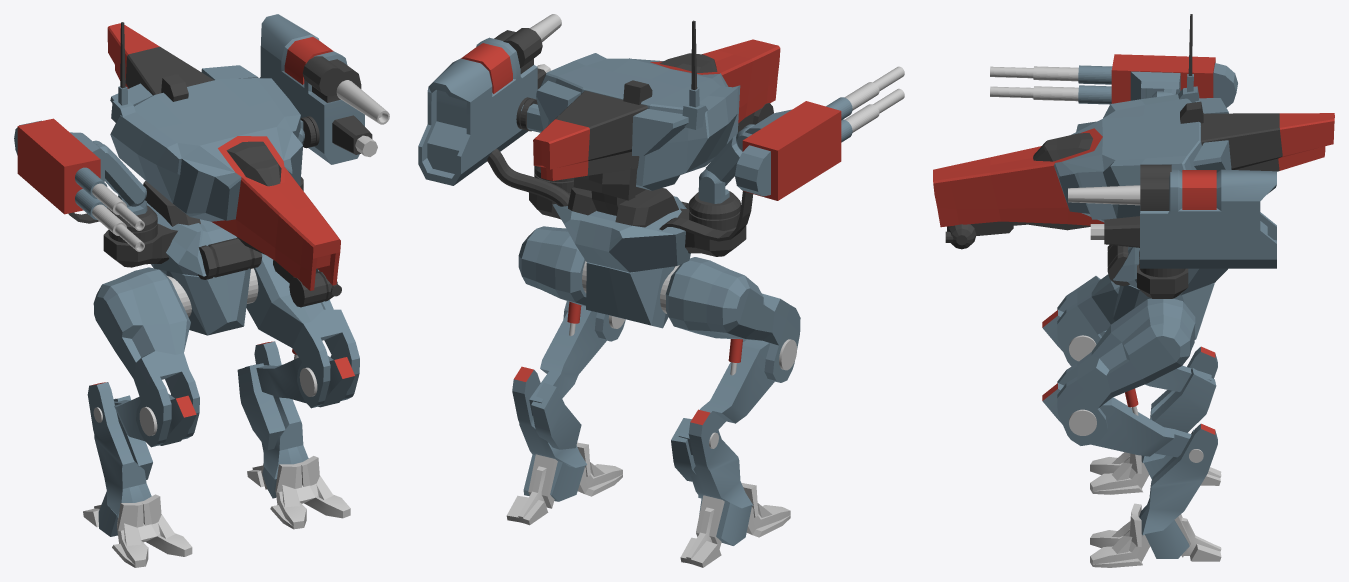
The model's file is SapceY_Blocking_Rig.fbx.
The picture shows the model from 3 angles, left to right: view 1: azimuth 30°, elevation 25°; view 2: azimuth 150°, elevation 25°; view 3: azimuth 270°, elevation 25°; orthographic projection. The views are drawn at different scales.
Visible parts, largest first — view 1: Cube.015, Cylinder, Cube.008, Cube.006, Cylinder.008, Cube.001, Cube.016, Cube.004, Cube.009, Cube.017, Cube.005, Cube.003 (+3 smaller); view 2: Cube.015, Cube.008, Cube.001, Cube.006, Cylinder, Cube.016, Cube.004, Cylinder.008, Cube.009, Cube.002, Cube.003, Cube.011 (+5 smaller); view 3: Cube.015, Cube.008, Cylinder.008, Cube.006, Cube.004, Cylinder, Cube.003, Cube.016, Cube.001, Cube.005, Cube.017, Cube.009 (+2 smaller).
Boxes of the visible parts, x1,y1,x2,y2 form: Cube.015: (107,22,341,307); Cylinder: (93,267,199,447); Cube.008: (260,14,389,164); Cube.006: (14,118,144,251); Cylinder.008: (246,253,359,408); Cube.001: (68,180,303,279); Cube.016: (87,382,152,536); Cube.004: (237,341,308,498); Cube.009: (160,268,250,335); Cube.017: (112,494,192,567); Cube.005: (270,456,350,529); Cube.003: (245,356,354,407); Cube.015: (533,20,780,200); Cube.008: (418,14,561,185); Cube.001: (487,148,753,272); Cube.006: (735,66,904,200); Cylinder: (665,257,800,382); Cube.016: (671,409,753,548); Cube.004: (512,366,586,508); Cylinder.008: (518,226,625,341); Cube.009: (586,262,674,328); Cube.002: (678,340,774,454); Cube.003: (529,305,606,415); Cube.011: (689,124,754,219); Cube.015: (933,14,1334,249); Cube.008: (1068,164,1276,268); Cylinder.008: (1057,298,1195,445); Cube.006: (990,54,1237,107); Cube.004: (1139,423,1217,558); Cylinder: (1057,274,1119,366); Cube.003: (1042,383,1191,457); Cube.016: (1141,346,1217,479); Cube.001: (1107,245,1227,298); Cube.005: (1090,503,1150,567); Cube.017: (1090,452,1149,494); Cube.009: (1113,283,1214,339).
Bounding box in the file's own units: 346 × 526 × 405.
